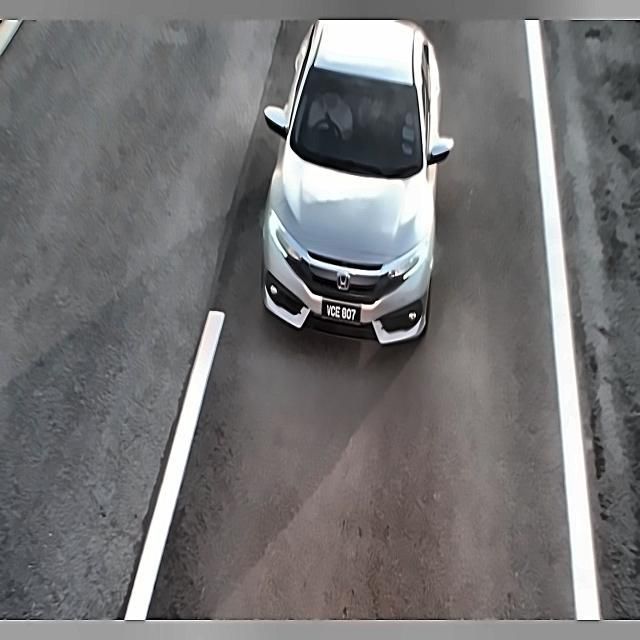car: (318, 294, 362, 332)
